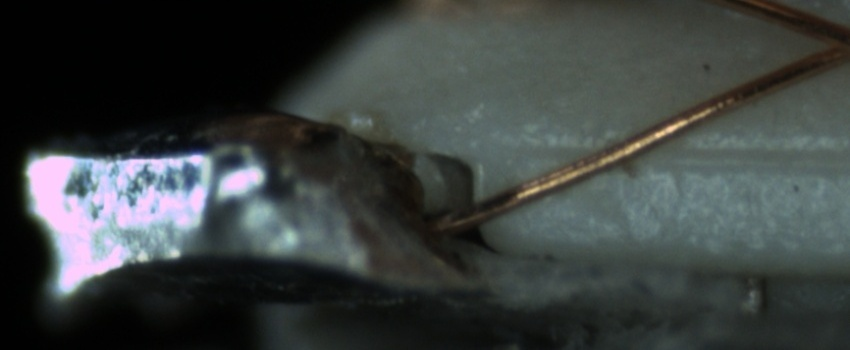CL: (796, 15, 850, 72)
DL: (524, 118, 847, 188)
